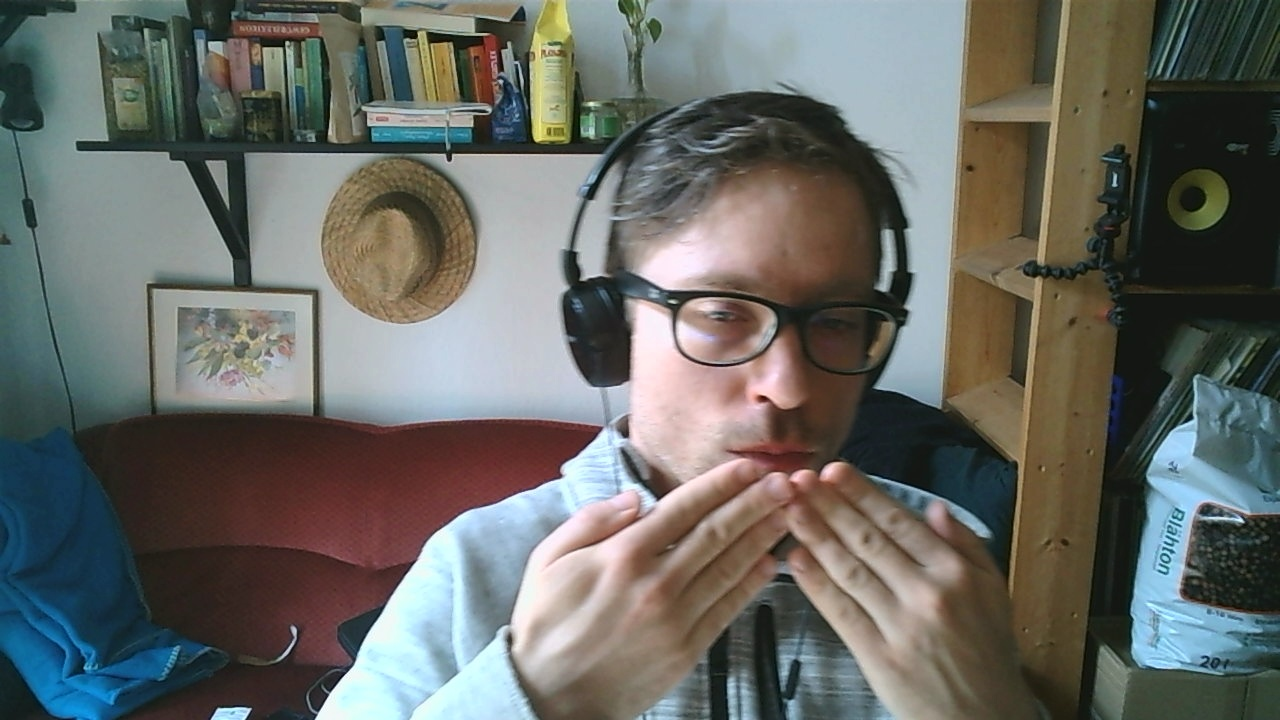thanks: (513, 454, 1019, 720)
